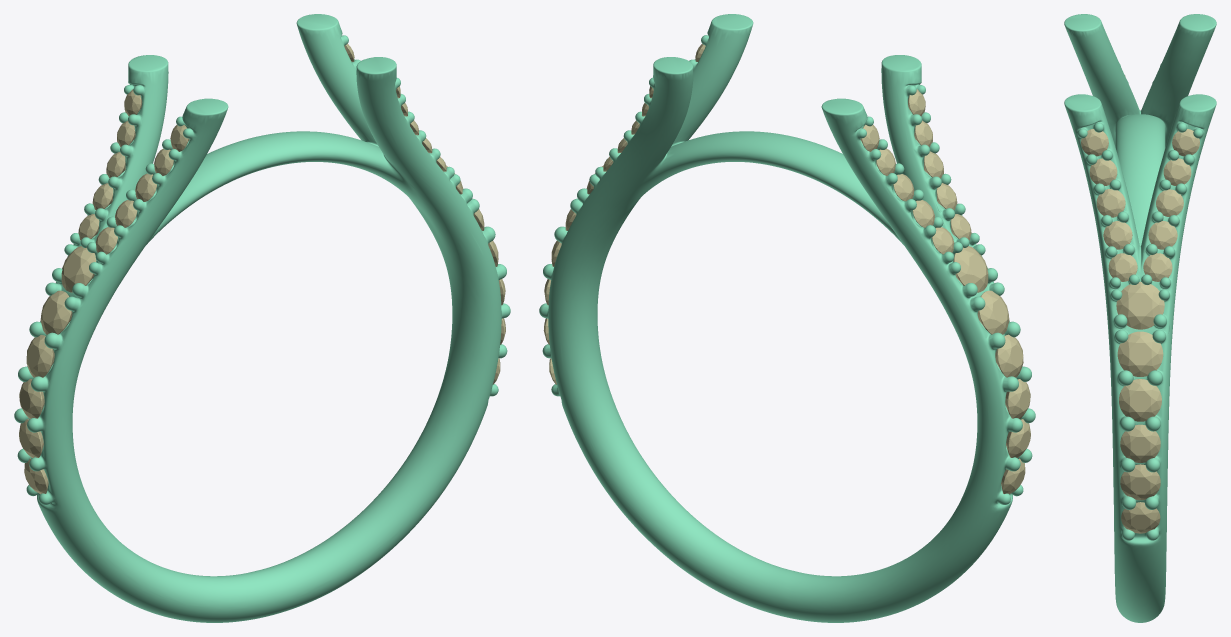
3 renders of one model, left to right at view 1: azimuth 30°, elevation 25°; view 2: azimuth 150°, elevation 25°; view 3: azimuth 270°, elevation 25°, orthographic. The views are drawn at different scales.
Parts seen in each view (by area): view 1: Metal02, Diamond_Gem.019, Diamond_Gem.020, Diamond_Gem.021, Diamond_Gem.023; view 2: Metal02, Diamond_Gem.019, Diamond_Gem.020, Diamond_Gem.021, Diamond_Gem.023; view 3: Metal02, Diamond_Gem.012, Diamond_Gem.011, Diamond_Gem.010, Diamond_Gem.008, Diamond_Gem.009, Diamond_Gem.015, Diamond_Gem.002, Diamond_Gem, Diamond_Gem.001, Diamond_Gem.014, Diamond_Gem.013 (+5 smaller).
Boxes of the visible parts, x1,y1,x2,y2 form: Metal02: (14, 14, 510, 622); Diamond_Gem.019: (61, 246, 96, 292); Diamond_Gem.020: (40, 290, 72, 334); Diamond_Gem.021: (26, 335, 54, 377); Diamond_Gem.023: (19, 379, 44, 418); Metal02: (539, 14, 1035, 622); Diamond_Gem.019: (953, 246, 988, 292); Diamond_Gem.020: (977, 290, 1009, 334); Diamond_Gem.021: (995, 334, 1023, 377); Diamond_Gem.023: (1005, 379, 1030, 418); Metal02: (1064, 14, 1216, 622); Diamond_Gem.012: (1116, 281, 1164, 329); Diamond_Gem.011: (1117, 331, 1163, 376); Diamond_Gem.010: (1119, 379, 1161, 421); Diamond_Gem.008: (1120, 424, 1160, 462); Diamond_Gem.009: (1120, 464, 1160, 500); Diamond_Gem.015: (1121, 502, 1160, 533); Diamond_Gem.002: (1096, 189, 1125, 217); Diamond_Gem: (1103, 221, 1132, 249); Diamond_Gem.001: (1148, 221, 1177, 249); Diamond_Gem.014: (1108, 253, 1137, 281); Diamond_Gem.013: (1143, 253, 1172, 281).
Bounding box in the file's own units: 21.37 × 23.34 × 6.02.
